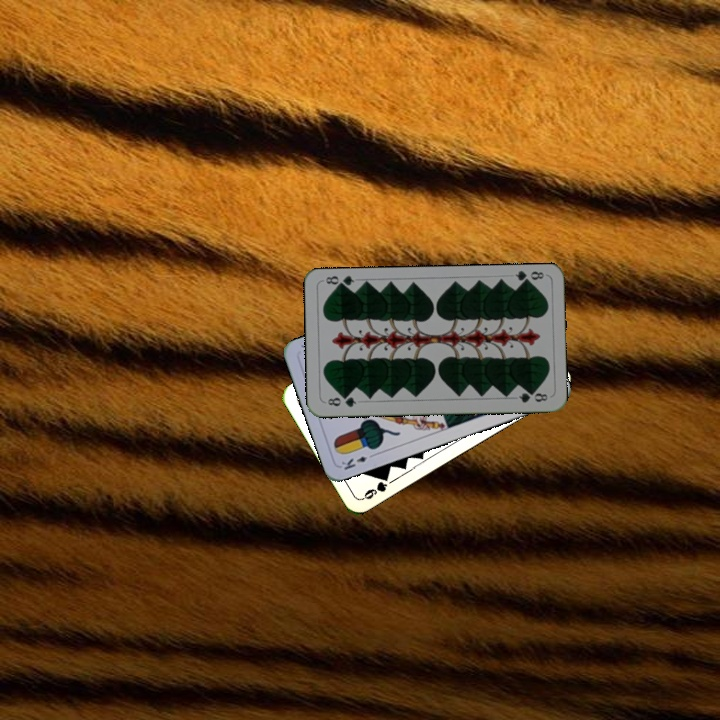EK: (337, 449, 378, 473)
G8: (511, 267, 546, 287), (324, 392, 359, 410)
G9: (358, 471, 392, 502)
